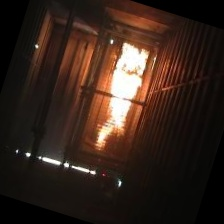fire: (85, 39, 160, 161)
